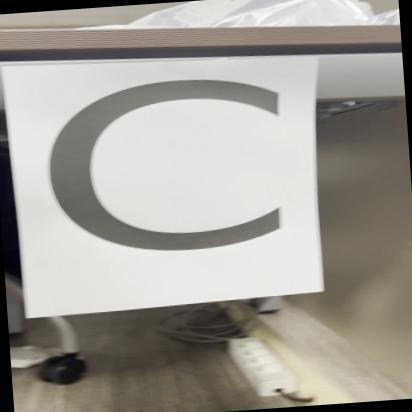seat: (8, 49, 324, 310)
